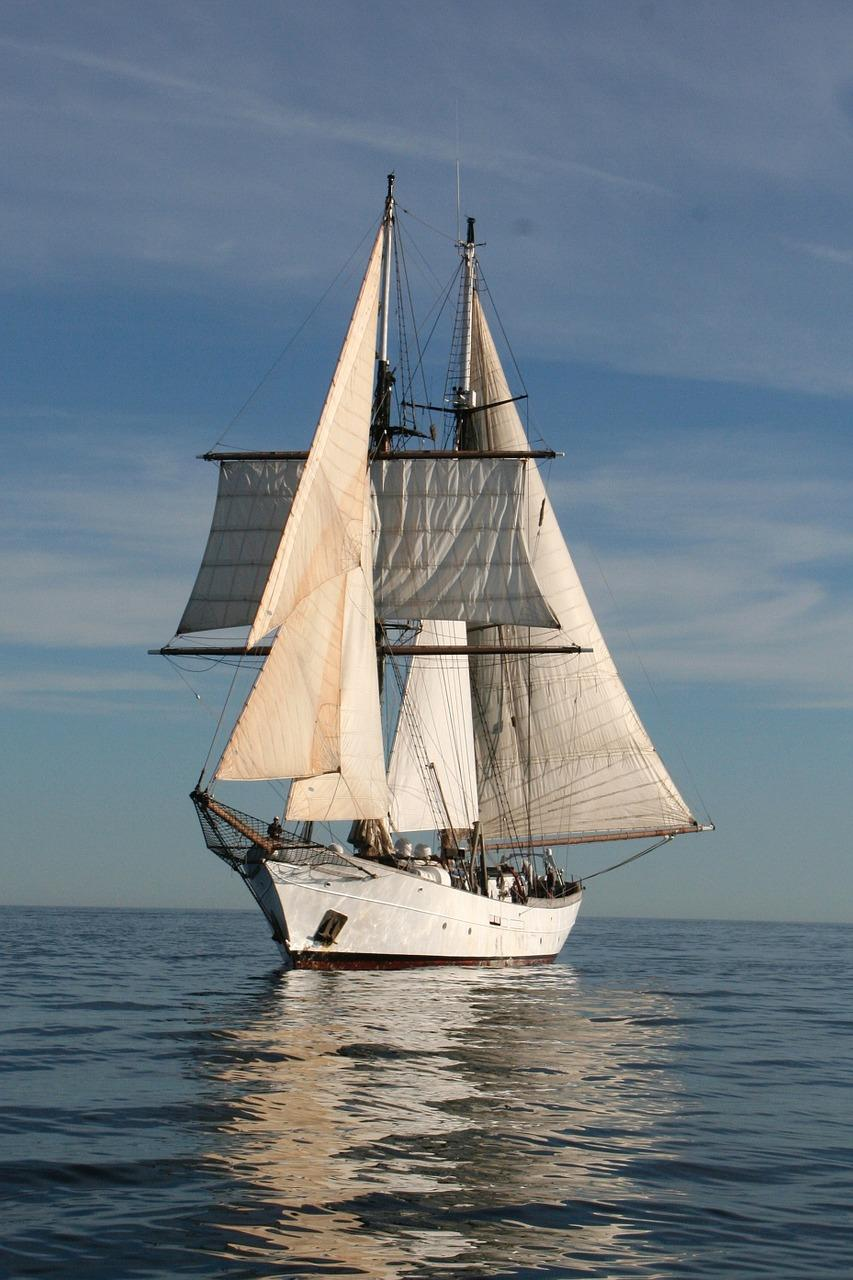Ship: (144, 175, 712, 967)
